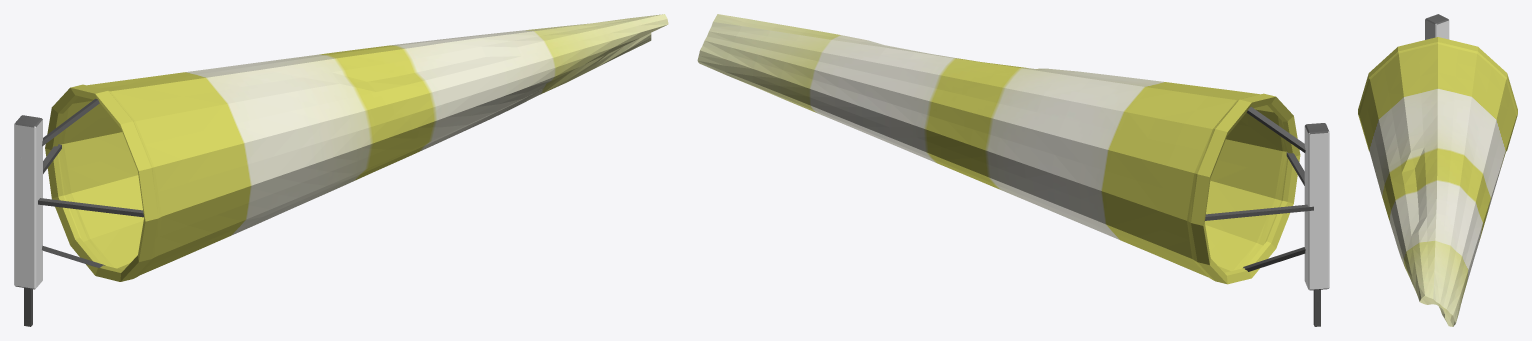
3 views of the same model, side by side, from view 1: azimuth 30°, elevation 25°; view 2: azimuth 150°, elevation 25°; view 3: azimuth 270°, elevation 25° (orthographic). The views are drawn at different scales.
Parts seen in each view (by area): view 1: WS-5.obj; view 2: WS-5.obj; view 3: WS-5.obj.
Part boxes in pixels (<box>): WS-5.obj: <box>14,14,668,326</box>; WS-5.obj: <box>697,14,1329,326</box>; WS-5.obj: <box>1358,14,1517,326</box>.
Bounding box in the file's own units: 5.33 × 1.7 × 1.44.
